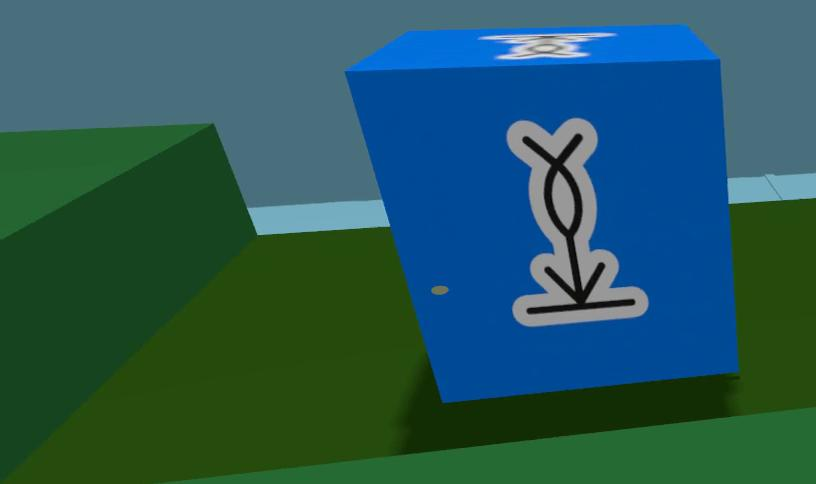KFS_REAL: (346, 25, 737, 401), (506, 118, 648, 327), (480, 32, 614, 60)
